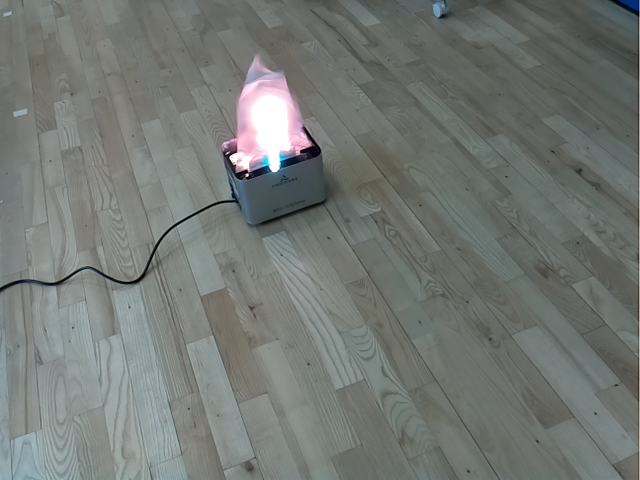fire: (233, 55, 313, 172)
